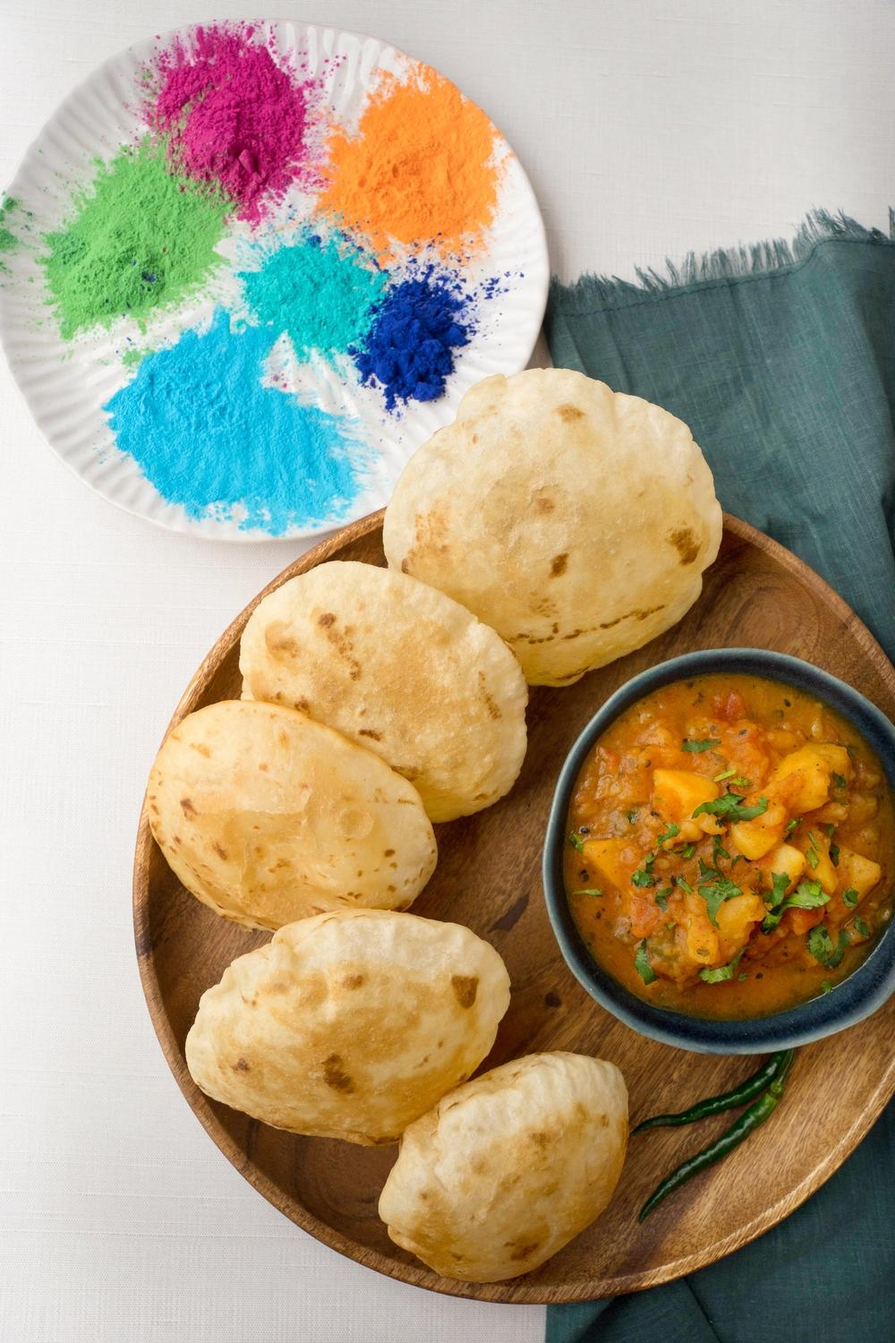puri: (158, 606, 570, 1277)
